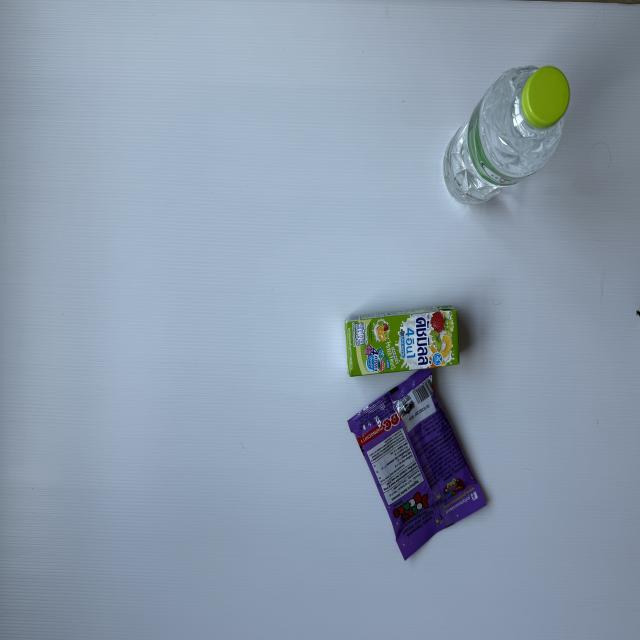candy: (348, 369, 487, 561)
milk: (344, 306, 459, 376)
water: (442, 65, 569, 206)
